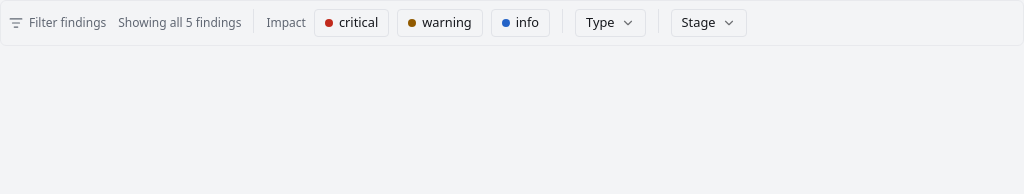
Test case: toggling a type inside the dropdown produces a chip
Click the button with aria-label "filter by type" at (610, 23), box [575,9,646,37]
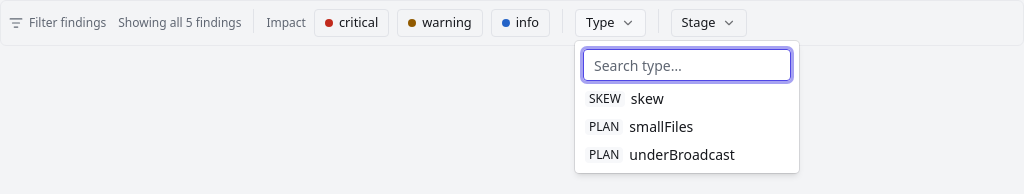
Click the menu item with aria-label "Filter by type: skew" at (624, 98), box [585,89,664,108]
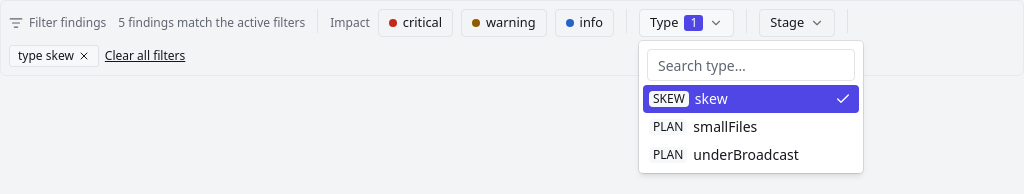
Expected: the button with aria-label "Remove filter: type skew" is shown, [9,45,99,67]
